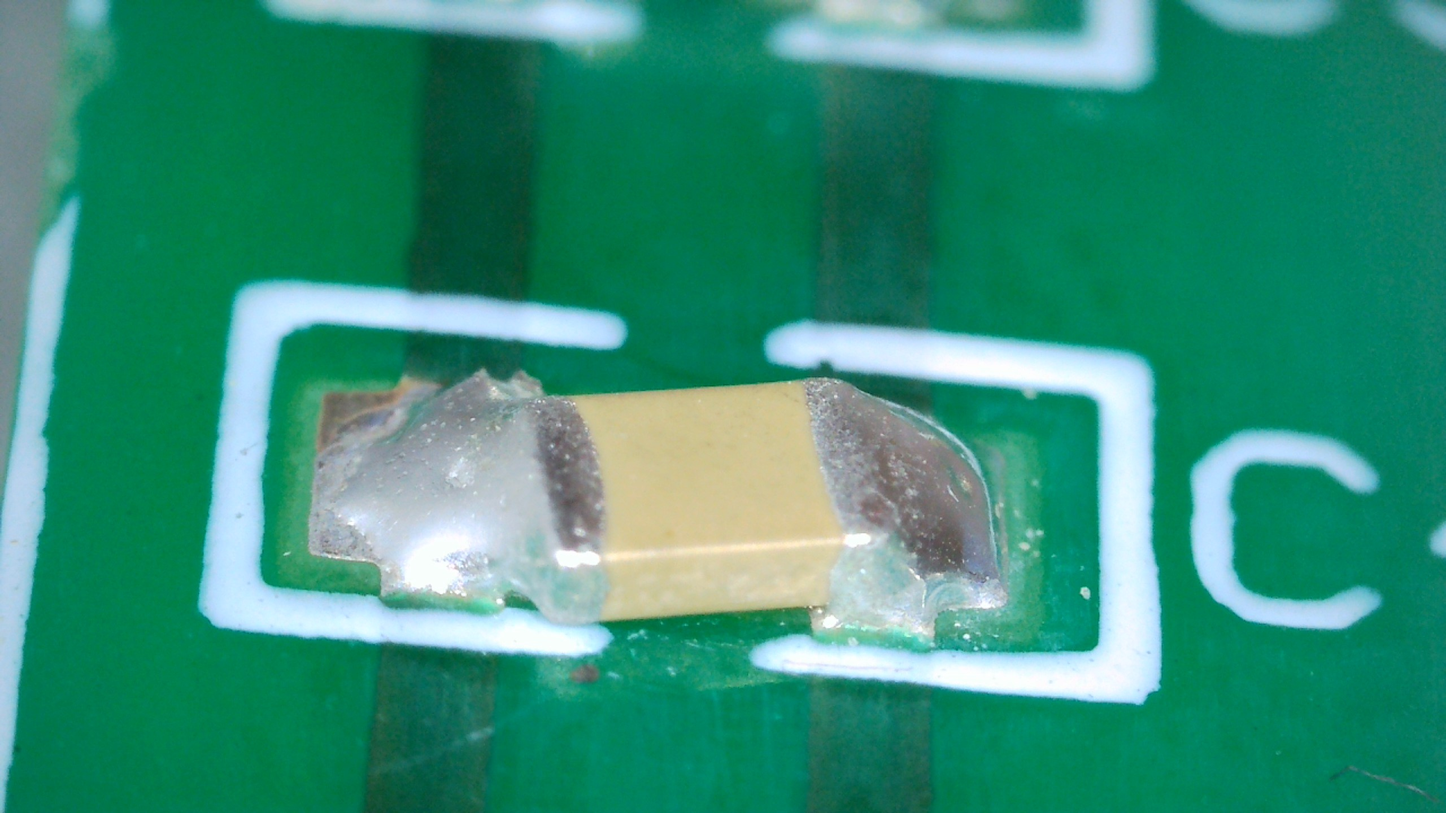NG: (309, 370, 607, 613), (806, 379, 1007, 647)
